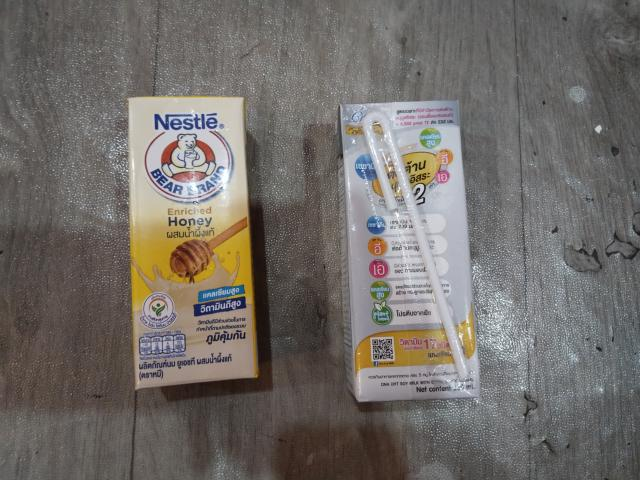drink_box: (330, 98, 482, 411), (118, 91, 271, 399)
